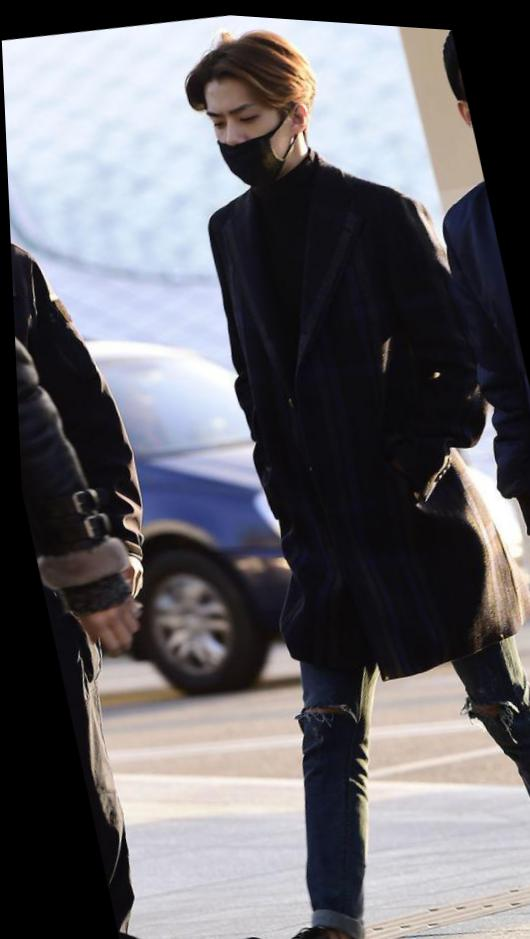WRONG: (191, 78, 304, 193)
